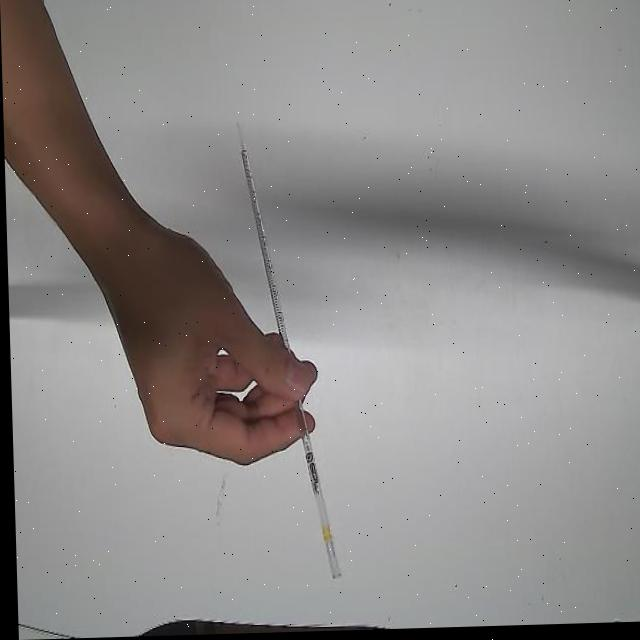Serelogical Pipet 1 mL: (232, 117, 340, 585)
